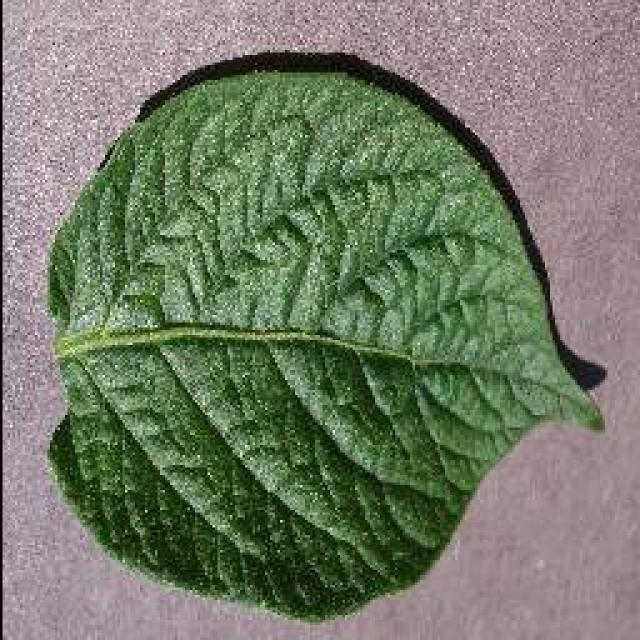Potato___healthy: (45, 70, 605, 622)
